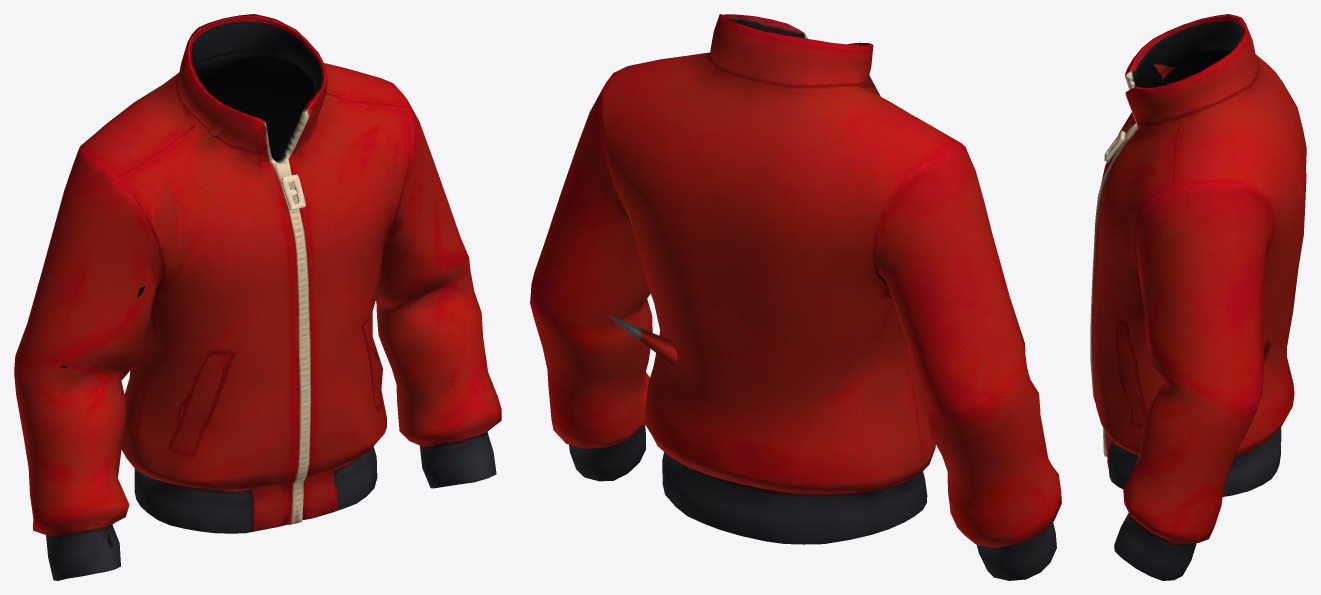
File: street-body.glb
3 renders of one model, left to right at view 1: azimuth 30°, elevation 25°; view 2: azimuth 150°, elevation 25°; view 3: azimuth 270°, elevation 25°, orthographic. The views are drawn at different scales.
Visible parts, largest first — view 1: street-body; view 2: street-body; view 3: street-body.
Boxes of the visible parts, x1,y1,x2,y2 form: street-body: (14, 14, 501, 580); street-body: (530, 14, 1061, 580); street-body: (1090, 14, 1306, 580).
Size of the model in its own units: 0.6496 by 0.65 by 0.28.
Materials: 1 (1 with a texture image).
